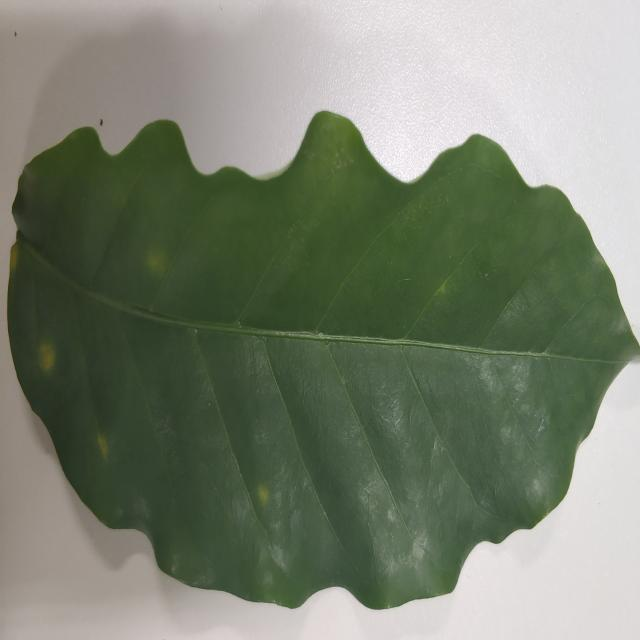Enfermedad-Roya: (6, 111, 632, 612)
